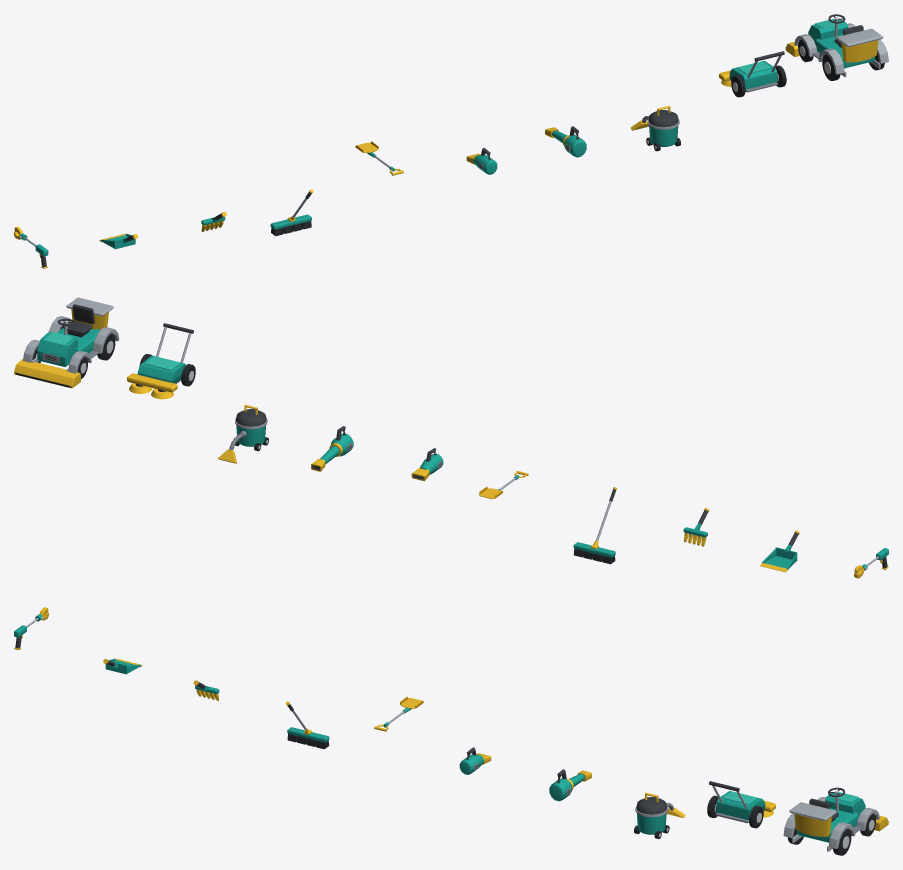
The model's file is FWL_Tools.glb.
3 views of the same model, one above another, from view 1: azimuth 30°, elevation 25°; view 2: azimuth 150°, elevation 25°; view 3: azimuth 330°, elevation 25° (orthographic).
Visible parts, largest first — view 1: RideOnVacuum_Body, ShopVac, RotarySweeper_Body, PushBroom, LeafBlower; view 2: RideOnVacuum_Body, RotarySweeper_Body, ShopVac, PushBroom, LeafBlower, DustpanScoop; view 3: RideOnVacuum_Body, ShopVac, RotarySweeper_Body, PushBroom, LeafBlower.
Part boxes in pixels (x1,y1,x2,y2): RideOnVacuum_Body: (785, 18, 888, 77); ShopVac: (630, 105, 680, 151); RotarySweeper_Body: (719, 51, 784, 92); PushBroom: (270, 189, 313, 236); LeafBlower: (545, 126, 586, 157); RideOnVacuum_Body: (14, 297, 119, 388); RotarySweeper_Body: (127, 323, 193, 392); ShopVac: (218, 404, 268, 463); PushBroom: (573, 487, 616, 564); LeafBlower: (311, 426, 353, 471); DustpanScoop: (760, 530, 799, 572); RideOnVacuum_Body: (783, 792, 888, 851); ShopVac: (634, 792, 685, 838); RotarySweeper_Body: (709, 781, 775, 823); PushBroom: (285, 701, 329, 749); LeafBlower: (549, 769, 591, 801).
Size of the model in its own units: 65.5 by 7.19 by 8.28.
Materials: 1 (1 with a texture image).
